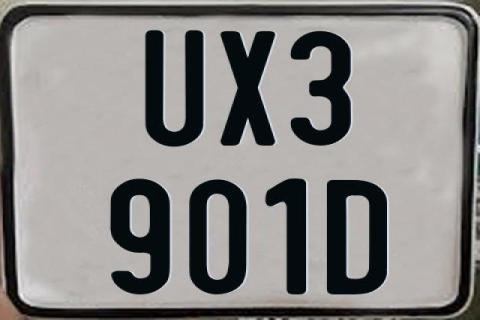0: (108, 178, 172, 298), (287, 30, 348, 146), (187, 177, 245, 295), (263, 176, 310, 297)
D: (326, 179, 391, 297)
U: (146, 28, 206, 147)
X: (219, 29, 277, 149)
